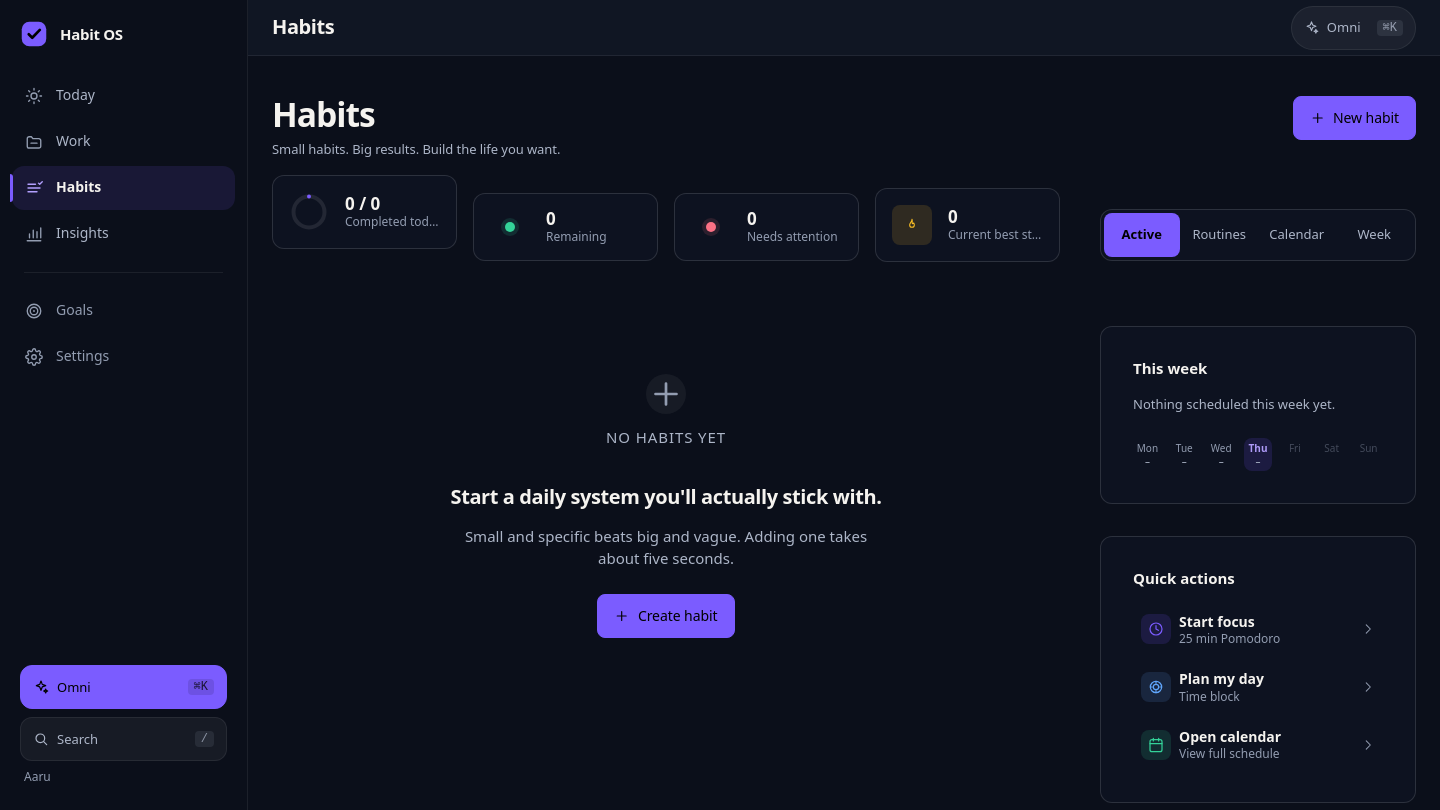
Test: active habits › the empty state offers exactly one way in and no charts
Expected: the text "No habits yet" is shown, left=606, top=426, right=726, bottom=449
Expected: the heading "Start a daily system you'll actually stick with." is shown, left=450, top=485, right=882, bottom=509
Click the button "Create habit" at (666,616), box left=598, top=594, right=734, bottom=638
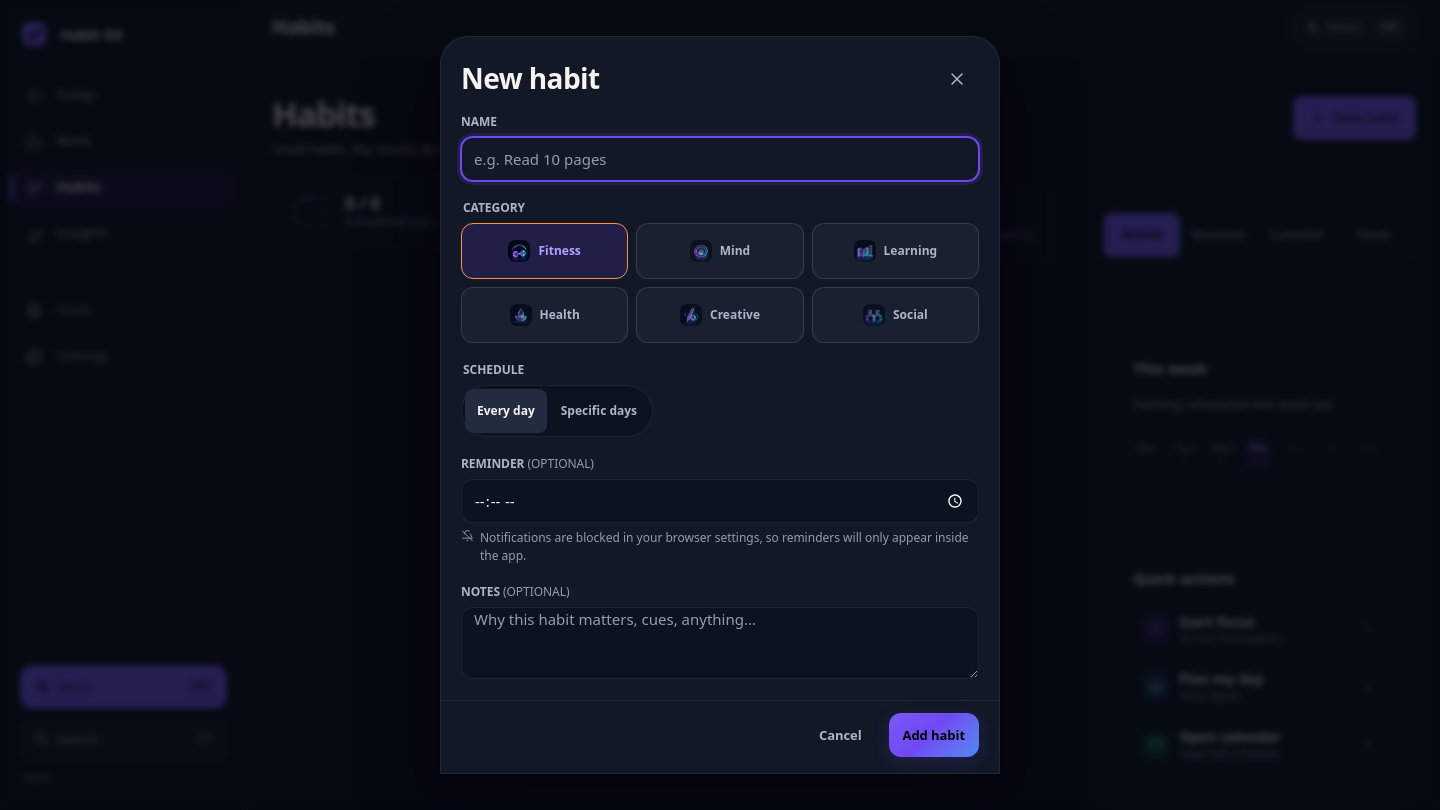
Now the dialog "New habit" is shown, box left=440, top=36, right=1000, bottom=774
